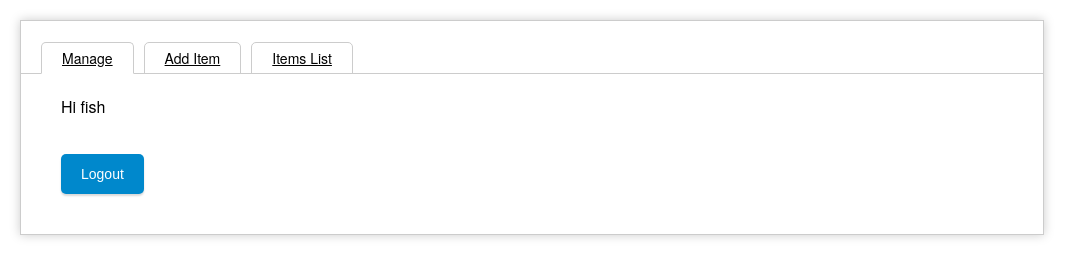
Manage › should render the current number of items
Click the list item "Items List" at [302, 58], box [251, 42, 353, 74]
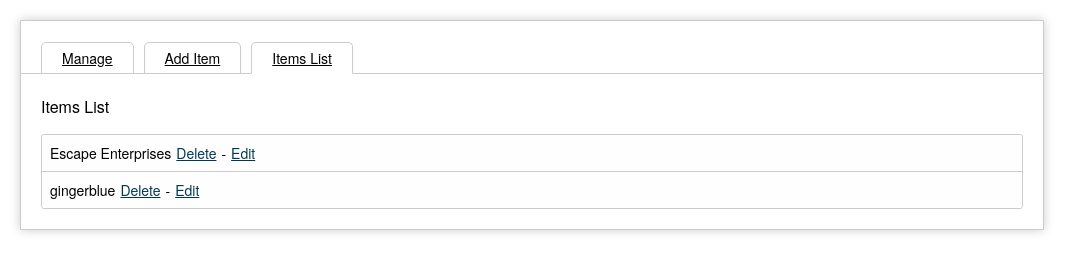
expect the element with test id "items-list" is shown: met, box [41, 94, 1023, 209]
expect the 4th list item shows "Escape Enterprises": met, box [50, 143, 171, 163]
expect the 5th list item shows "gingerblue": met, box [50, 180, 115, 200]
